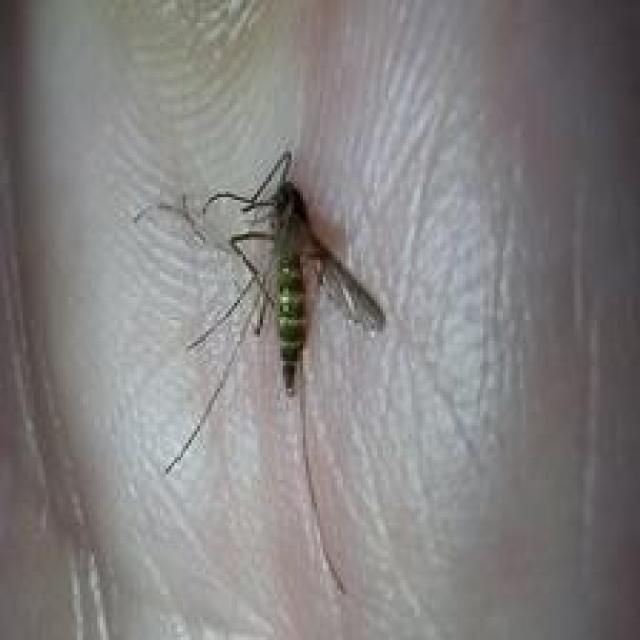Culex: (133, 149, 387, 594)
